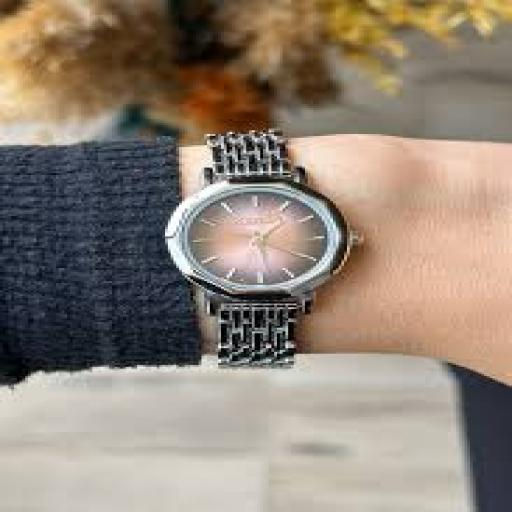KolSaati: (124, 100, 357, 378)
